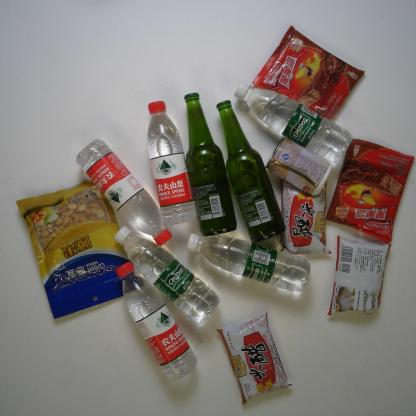Alcohol: (214, 98, 287, 243), (183, 90, 238, 238)
Canned Food: (264, 136, 334, 198)
Dessert: (250, 23, 367, 122), (323, 136, 416, 244)
Dried Fruit: (14, 178, 142, 321)
Drink: (113, 224, 221, 327), (75, 138, 174, 248), (114, 258, 200, 383), (232, 79, 355, 164), (185, 230, 313, 295), (145, 100, 199, 229)
Seasoner: (213, 310, 295, 408), (322, 233, 394, 319), (279, 176, 332, 256)
